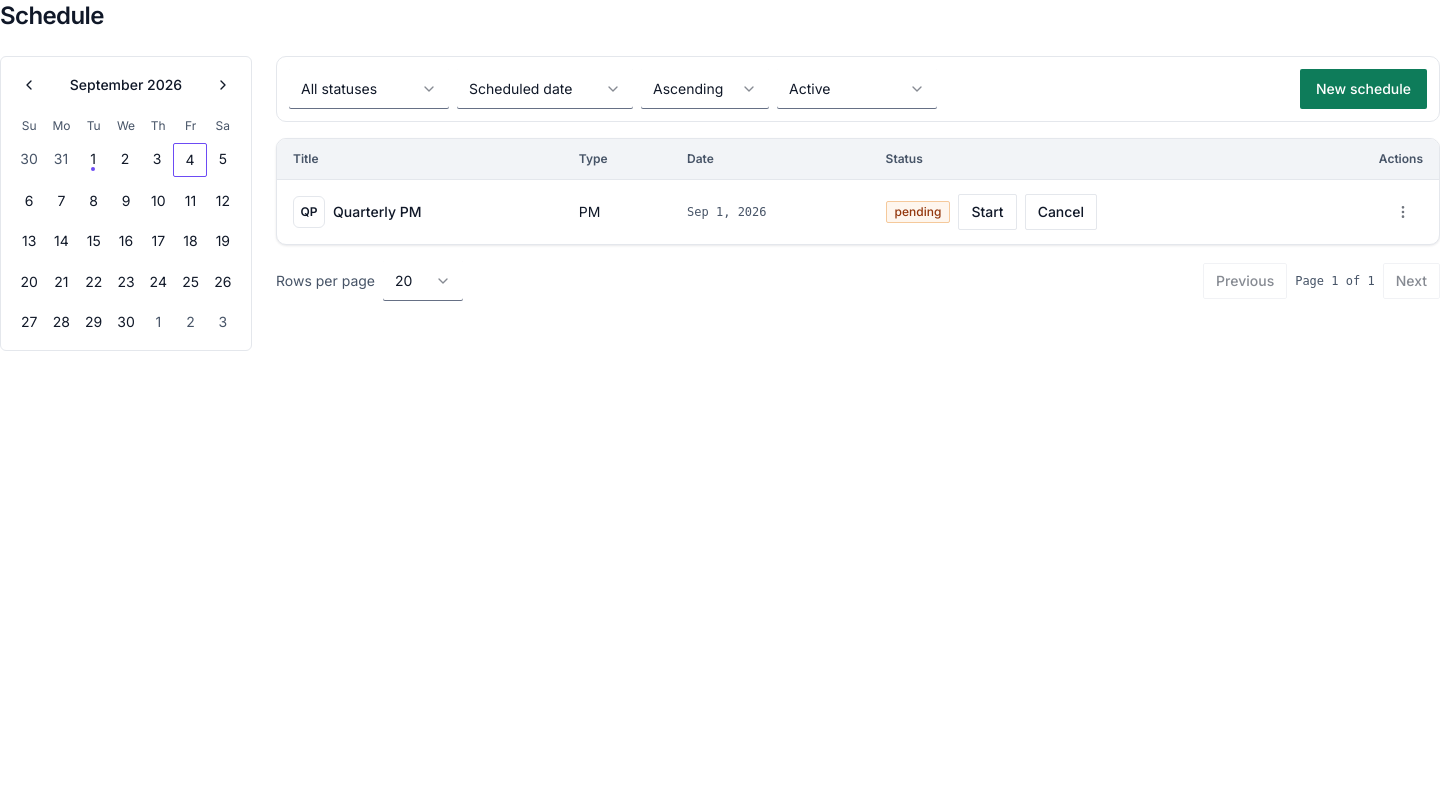
Test: SchedulePage › delete › does not delete when the confirmation is cancelled
The width and height of the screenshot is (1440, 810).
Expected: the text "Quarterly PM" is shown, [333,202,421,220]
Step 1. Press the mouse on the button named "Actions" → (1403, 212), box [1383,192,1423,232]
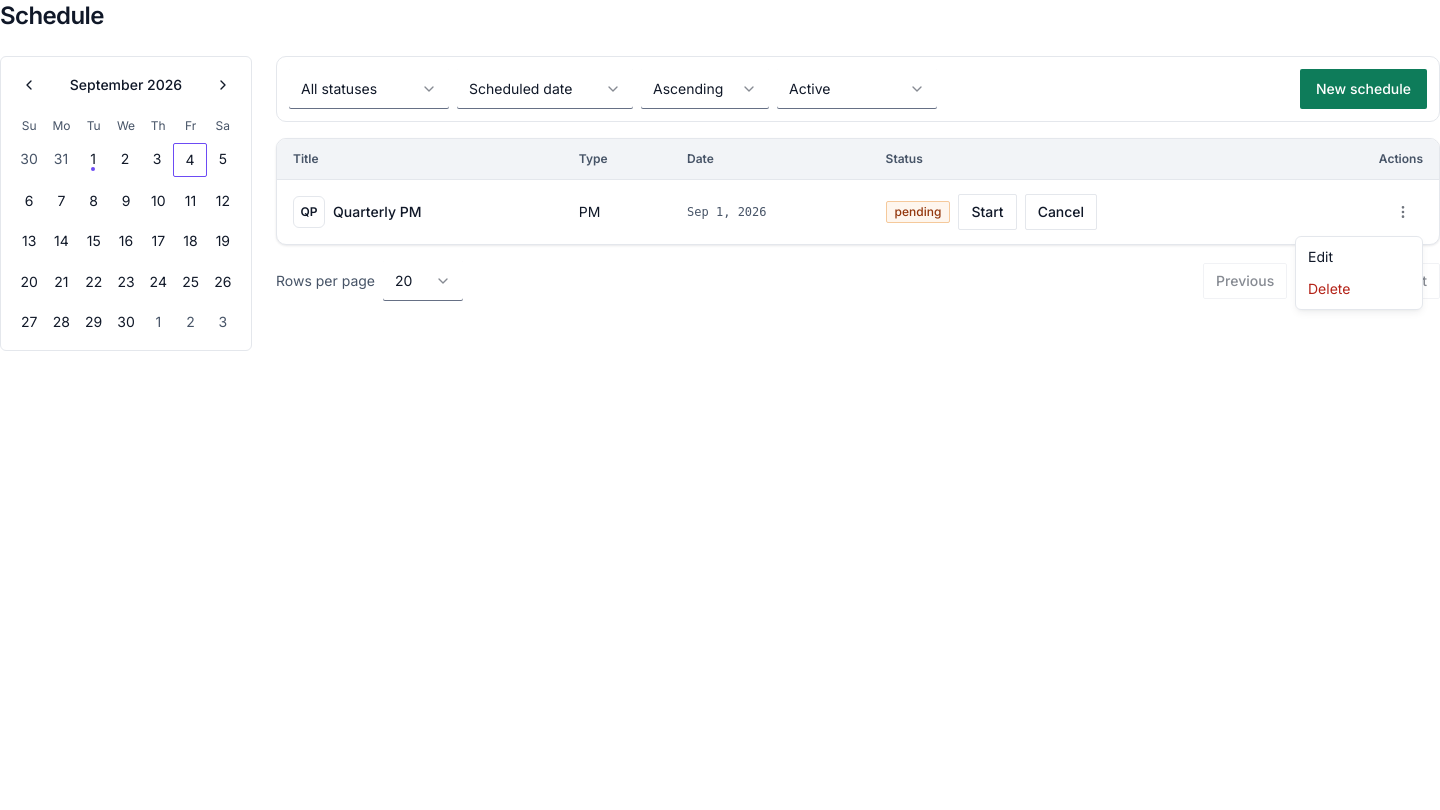
Step 2. Click the menu item "Delete" → click(1329, 288), box [1308,280,1350,297]
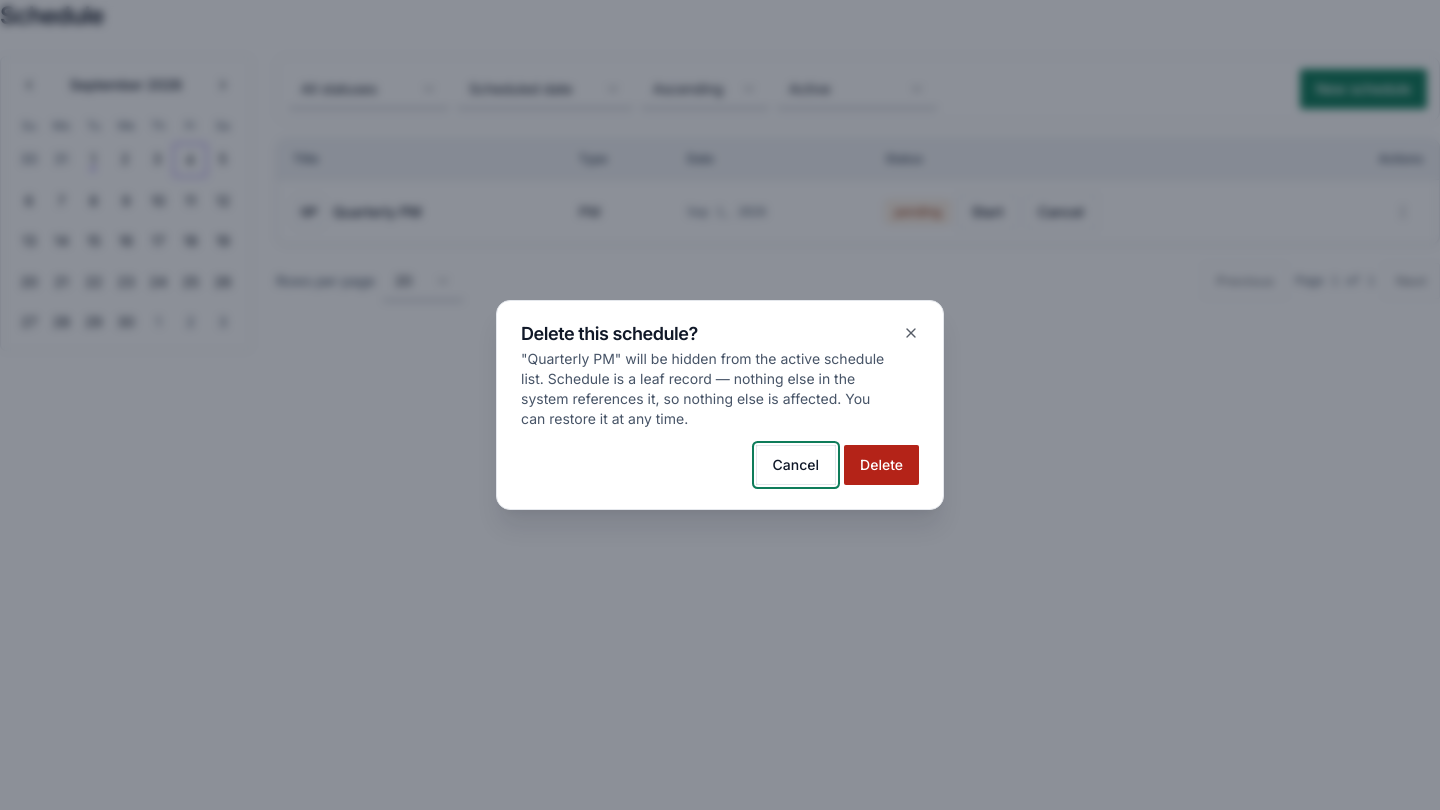
Expected: the heading "Delete this schedule?" is shown, [521,323,698,344]
Step 3. Click the button "Cancel" → click(796, 465), box [756,445,836,485]
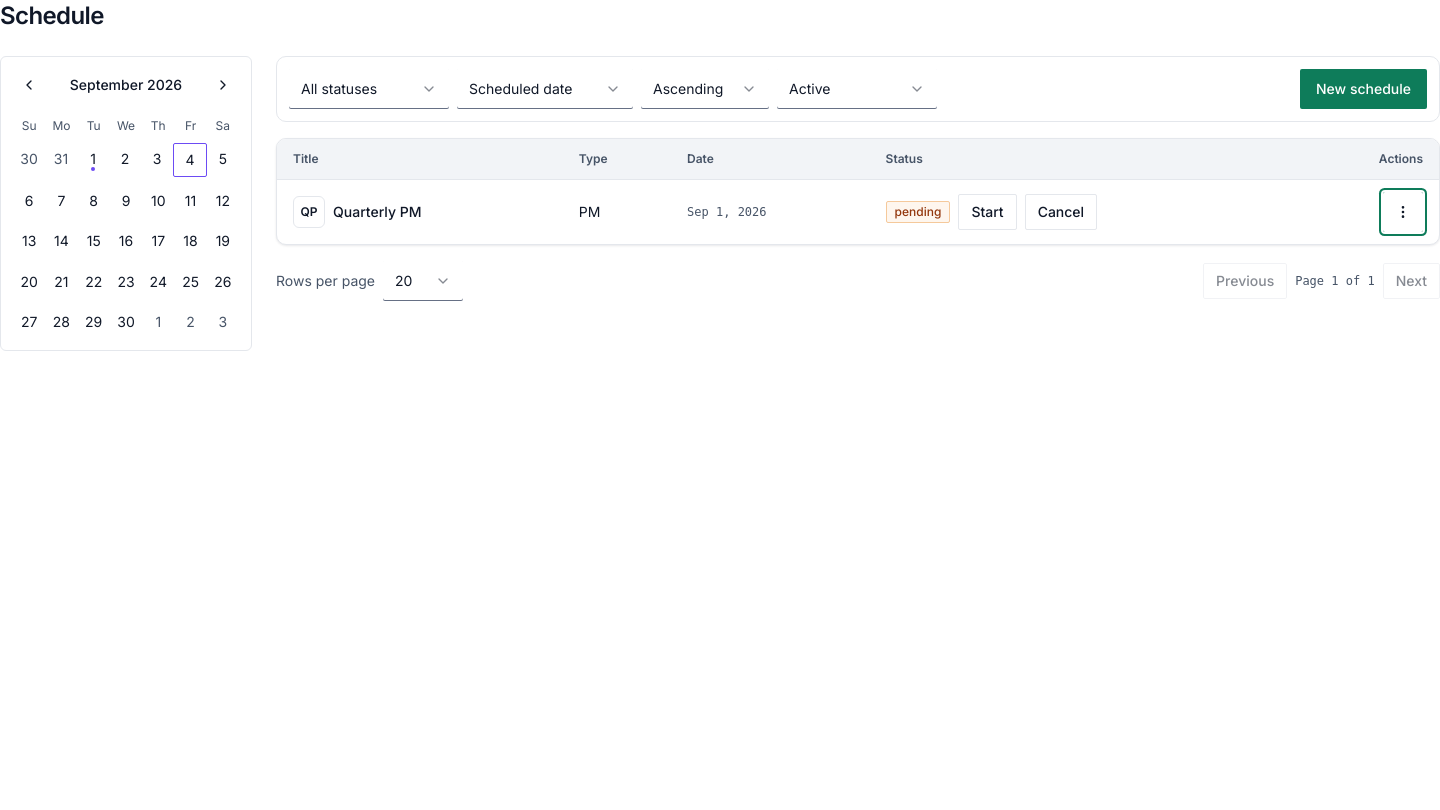
Expected: the heading "Delete this schedule?" is gone
